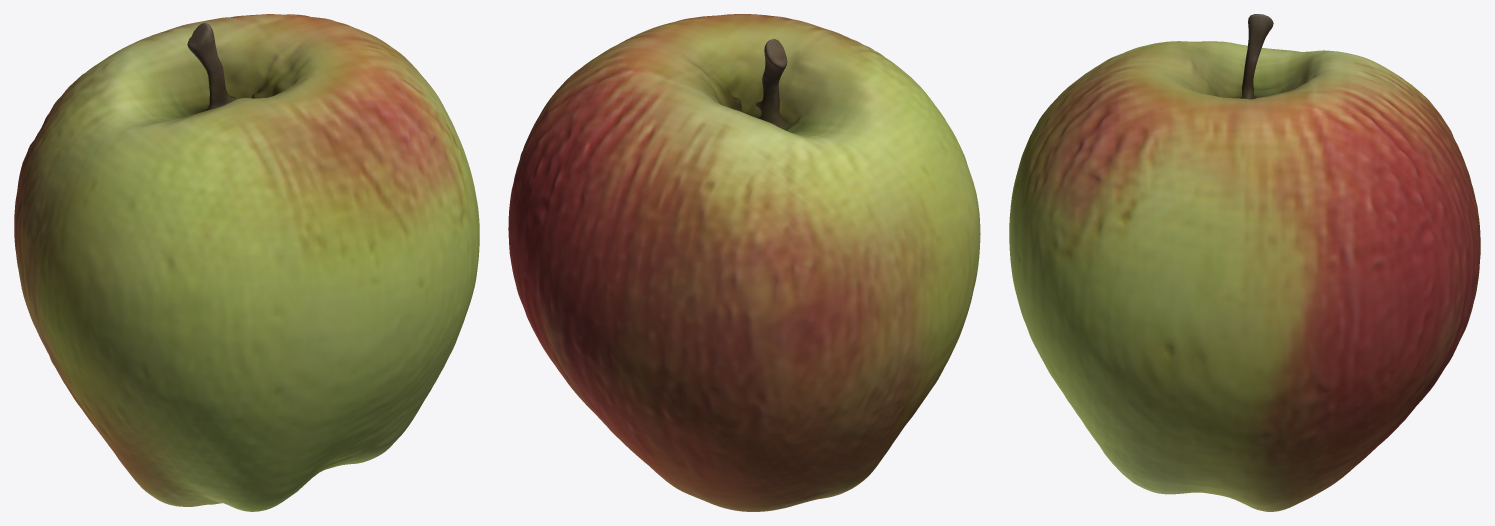
3 renders of one model, left to right at view 1: azimuth 30°, elevation 25°; view 2: azimuth 150°, elevation 25°; view 3: azimuth 270°, elevation 25°, orthographic.
Parts seen in each view (by area): view 1: high_poly_0; view 2: high_poly_0; view 3: high_poly_0.
Part boxes in pixels (x1=…): high_poly_0: x1=14, y1=14, x2=479, y2=511; high_poly_0: x1=508, y1=14, x2=980, y2=511; high_poly_0: x1=1009, y1=14, x2=1480, y2=511.
Size of the model in its own units: 0.9285 by 1 by 0.9361.
Materials: 1 (1 with a texture image).
